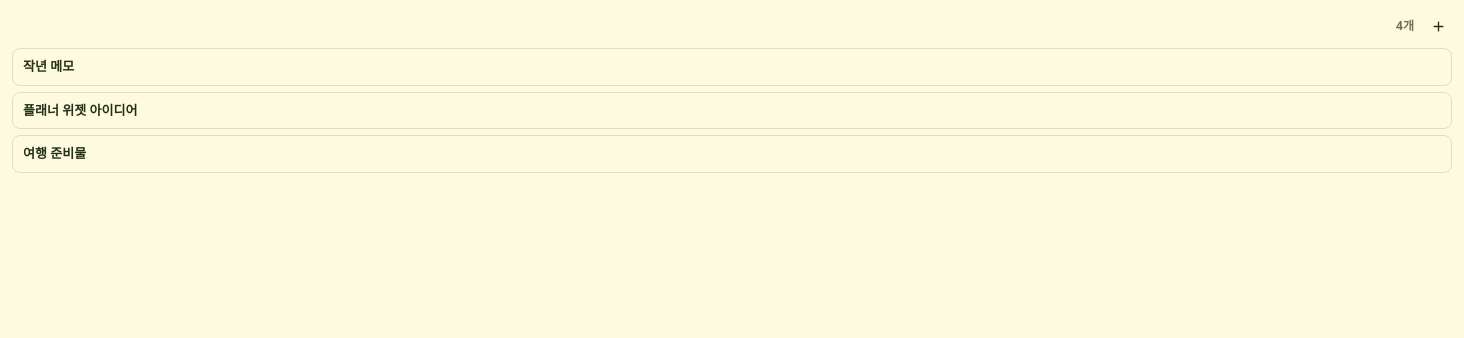
PC 사이드바 메모 섹션 (US-25, D-055) › 항목을 누르면 사이드바 안에서 펼쳐 제목·내용 칸, 다시 누르면 접힘 (D-055, D-057)
The image size is (1464, 338).
Click the button "여행 준비물" at (55, 153), box [13, 136, 1451, 172]
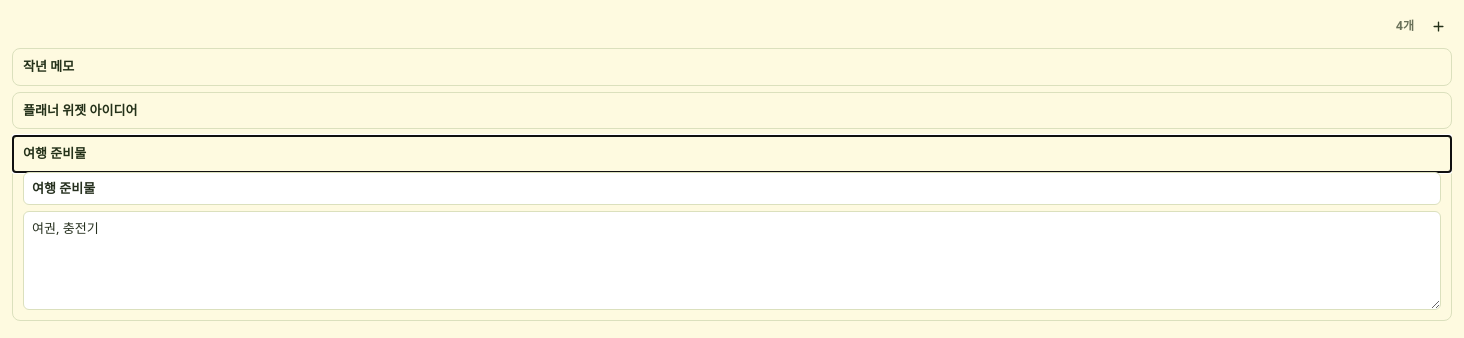
expect the field named "메모 제목" holds "여행 준비물": met, box [23, 172, 1441, 205]
expect the text box named "메모 내용" holds "여권, 충전기": met, box [23, 211, 1441, 310]
Click the button "여행 준비물" at (55, 153), box [13, 136, 1451, 172]
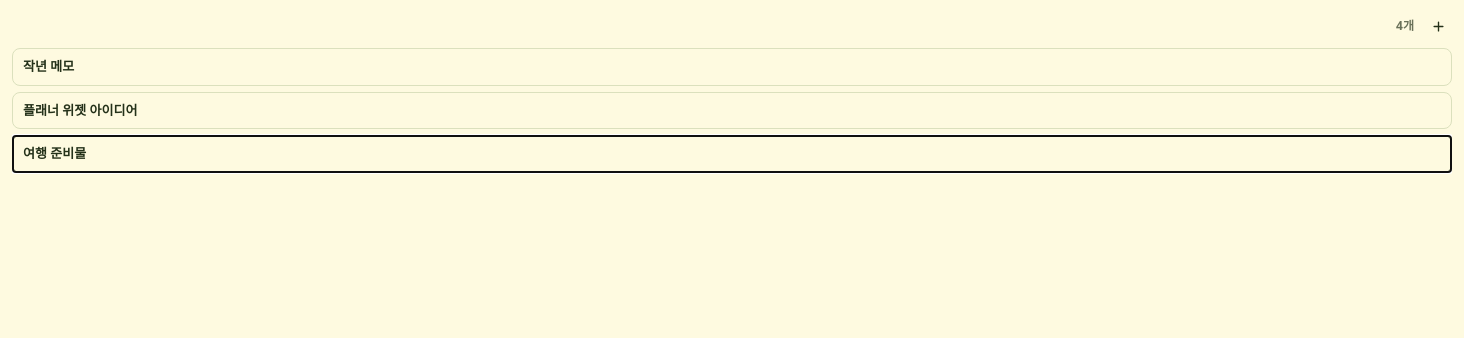
expect the field is gone: met
